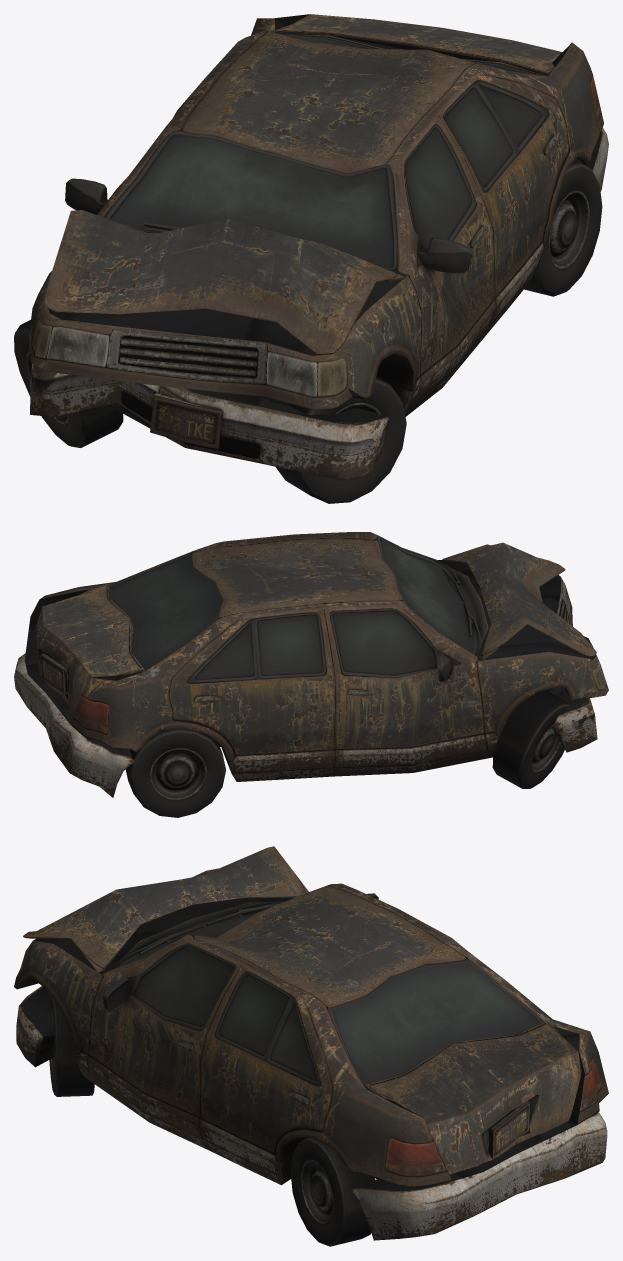
File: Rust in road 2.fbx
3 views of the same model, one above another, from view 1: azimuth 30°, elevation 25°; view 2: azimuth 150°, elevation 25°; view 3: azimuth 270°, elevation 25° (orthographic). The views are drawn at different scales.
Parts seen in each view (by area): view 1: Object001; view 2: Object001; view 3: Object001.
Boxes of the visible parts, left/top/right/bottom form: Object001: left=14, top=14, right=608, bottom=503; Object001: left=14, top=532, right=608, bottom=817; Object001: left=14, top=846, right=608, bottom=1246.
Size of the model in its own units: 604 by 214 by 544.
